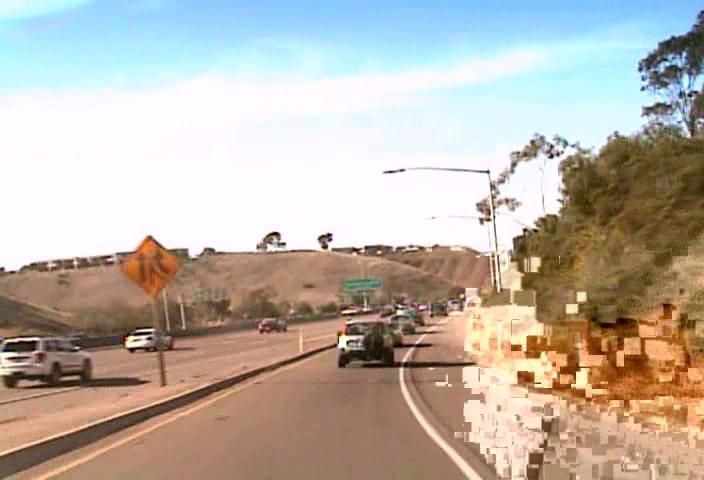addedLane: (120, 234, 182, 295)
